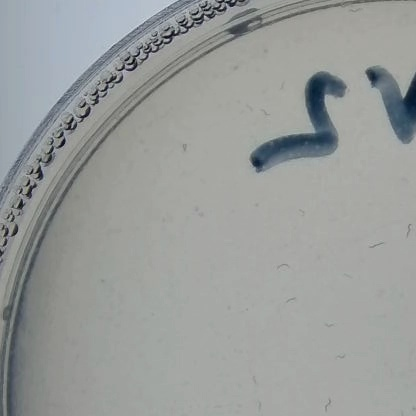worm: (365, 230, 386, 261), (245, 368, 266, 397), (341, 2, 366, 25), (273, 258, 292, 282), (271, 77, 289, 101), (398, 221, 415, 246), (319, 393, 339, 414), (252, 105, 273, 122), (205, 399, 225, 416), (279, 293, 297, 311), (293, 204, 309, 222), (330, 348, 352, 361), (249, 400, 265, 416), (340, 270, 356, 285), (319, 318, 340, 328), (243, 100, 256, 115)
